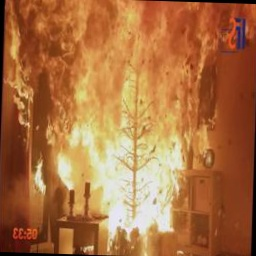fire: (0, 0, 256, 224)
